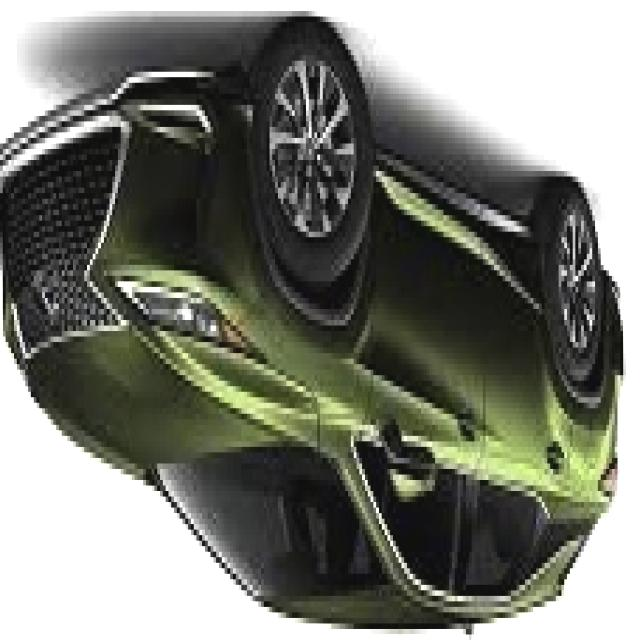green: (2, 68, 640, 626)
